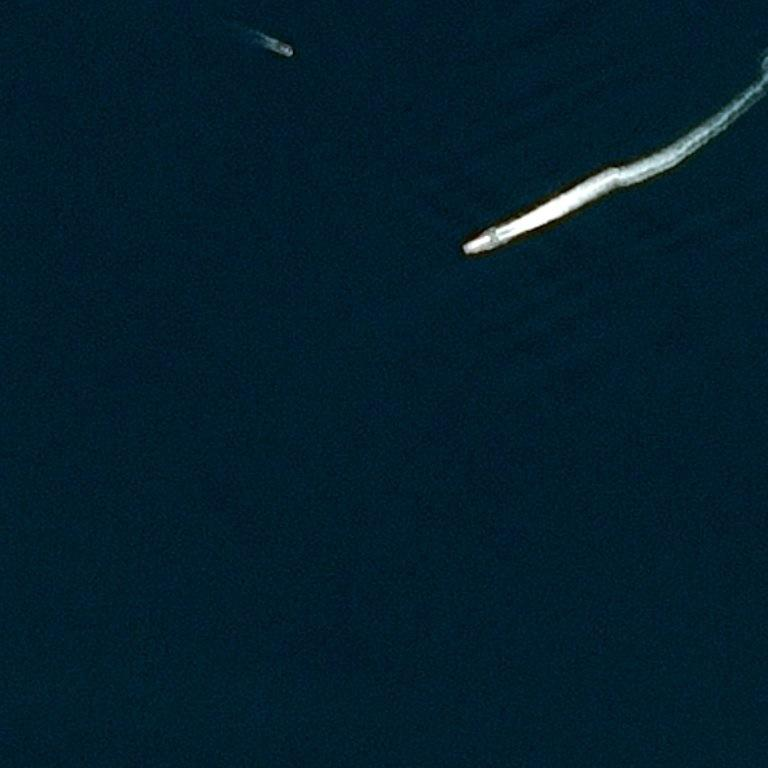ship: (461, 216, 511, 249), (274, 40, 295, 58), (505, 6, 511, 11), (463, 249, 468, 254), (492, 72, 497, 77), (290, 50, 294, 56), (47, 41, 51, 45), (276, 49, 279, 53)
